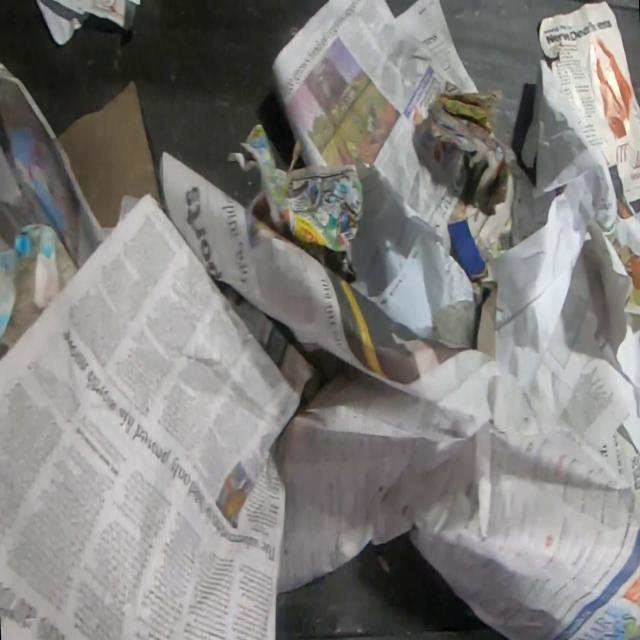cardboard: (428, 90, 518, 202), (447, 219, 500, 362)
